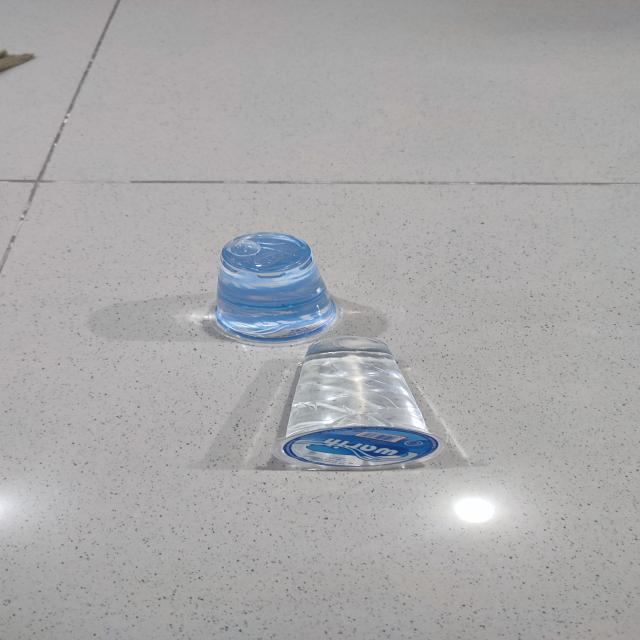air gelas: (266, 334, 454, 475), (204, 229, 345, 343)
